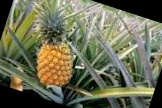Pineapple: (33, 4, 76, 86)
